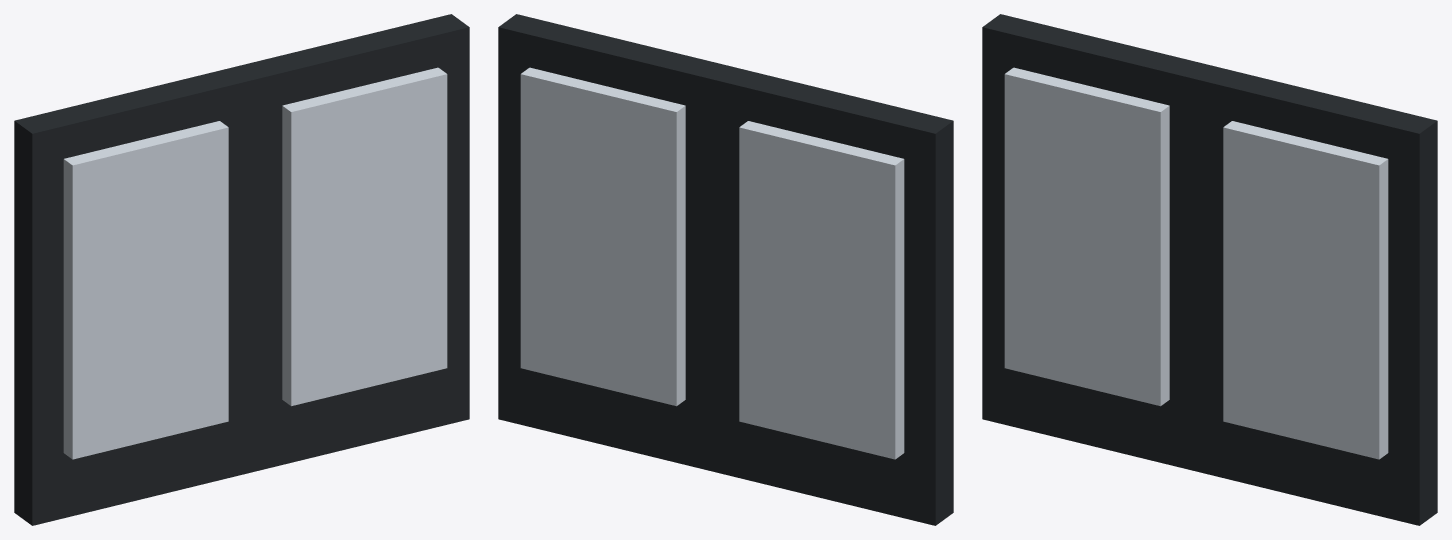
File: Control Panel 4.glb
The picture shows the model from 3 angles, left to right: view 1: azimuth 30°, elevation 25°; view 2: azimuth 150°, elevation 25°; view 3: azimuth 330°, elevation 25°; orthographic projection.
Parts seen in each view (by area): view 1: generated(Clone); view 2: generated(Clone); view 3: generated(Clone).
Boxes of the visible parts, left/top/right/bottom form: generated(Clone): left=14, top=14, right=469, bottom=525; generated(Clone): left=498, top=14, right=953, bottom=525; generated(Clone): left=982, top=14, right=1437, bottom=525.
Bounding box in the file's own units: 14 × 12 × 2.
1 material, 1 textured.
